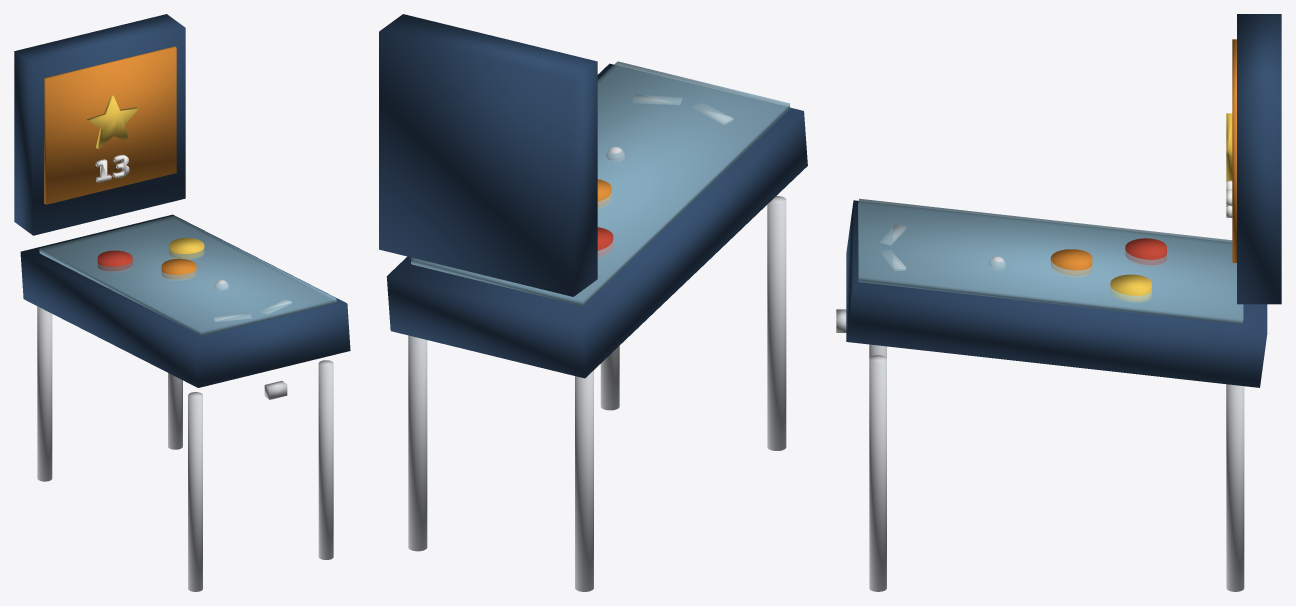
The model's file is pinball-machine.glb.
3 views of the same model, side by side, from view 1: azimuth 30°, elevation 25°; view 2: azimuth 150°, elevation 25°; view 3: azimuth 270°, elevation 25° (orthographic). The views are drawn at different scales.
Visible parts, largest first — view 1: part0, part1, part8, part9, part12, part3, part5, part2, part4; view 2: part8, part0, part1, part12, part5; view 3: part0, part1, part8, part12, part3, part9, part2, part4, part5.
Part boxes in pixels (bbox=[...]): part0: bbox=[20, 214, 350, 387]; part1: bbox=[39, 215, 336, 335]; part8: bbox=[14, 14, 185, 235]; part9: bbox=[44, 46, 176, 204]; part12: bbox=[37, 306, 333, 591]; part3: bbox=[87, 94, 204, 259]; part5: bbox=[95, 154, 291, 321]; part2: bbox=[97, 250, 132, 272]; part4: bbox=[161, 258, 196, 280]; part8: bbox=[379, 14, 597, 296]; part0: bbox=[386, 63, 807, 378]; part1: bbox=[411, 61, 790, 306]; part12: bbox=[408, 196, 786, 591]; part5: bbox=[633, 94, 733, 124]; part0: bbox=[846, 200, 1267, 387]; part1: bbox=[858, 198, 1243, 324]; part8: bbox=[1237, 14, 1281, 304]; part12: bbox=[836, 309, 1244, 591]; part3: bbox=[1110, 113, 1232, 302]; part9: bbox=[1232, 39, 1236, 262]; part2: bbox=[1125, 238, 1166, 266]; part4: bbox=[1050, 249, 1092, 276]; part5: bbox=[881, 180, 1232, 270].
Bounding box in the file's own units: 0.3836 × 1 × 0.8192.
